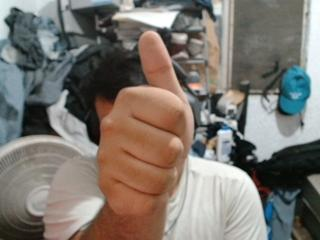Adelante: (83, 21, 202, 221)
